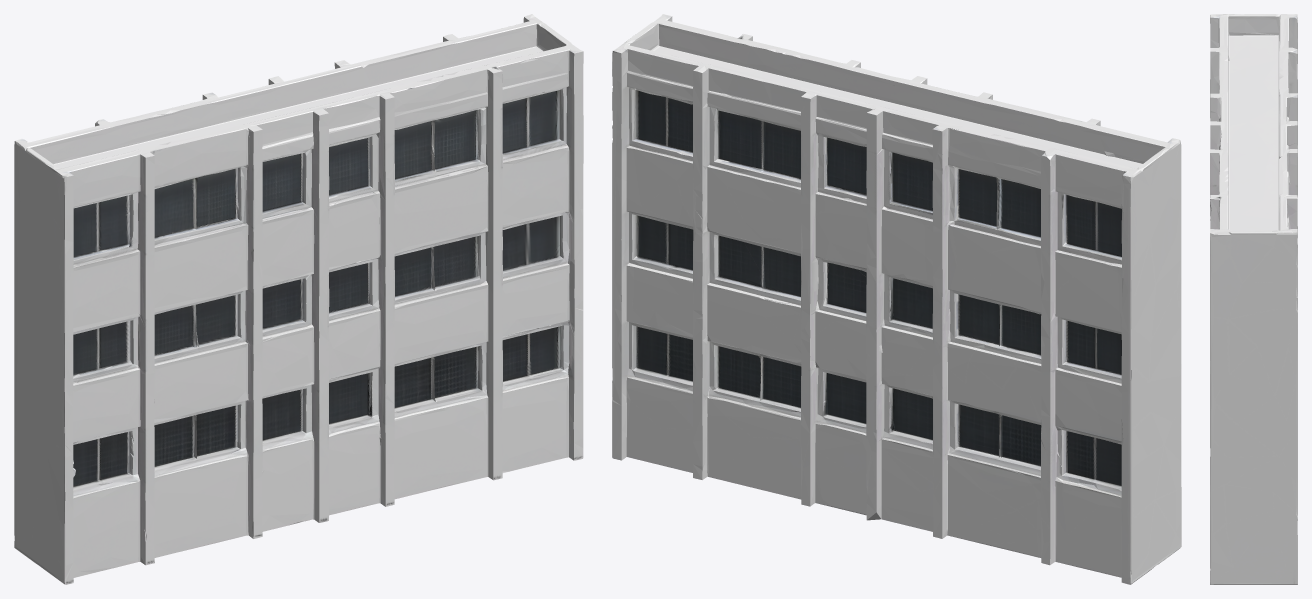
File: Symmetrical_Facade_0617194801_texture.fbx
3 views of the same model, side by side, from view 1: azimuth 30°, elevation 25°; view 2: azimuth 150°, elevation 25°; view 3: azimuth 270°, elevation 25° (orthographic). The views are drawn at different scales.
Visible parts, largest first — view 1: temp; view 2: temp; view 3: temp.
Boxes of the visible parts, <box> form: temp: <box>14,14,583,584</box>; temp: <box>612,14,1181,584</box>; temp: <box>1210,14,1297,584</box>.
Size of the model in its own units: 200 by 150 by 33.94.
1 material, 1 textured.
